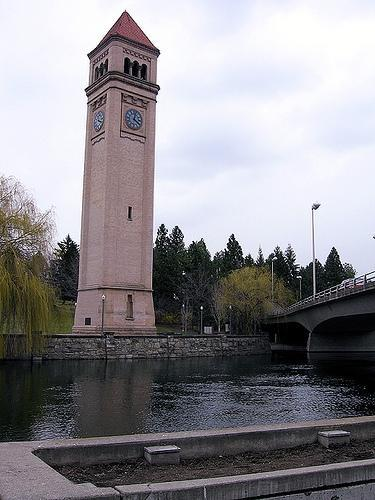car: (339, 278, 374, 292)
